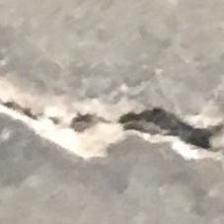Crack: (0, 77, 224, 172)
